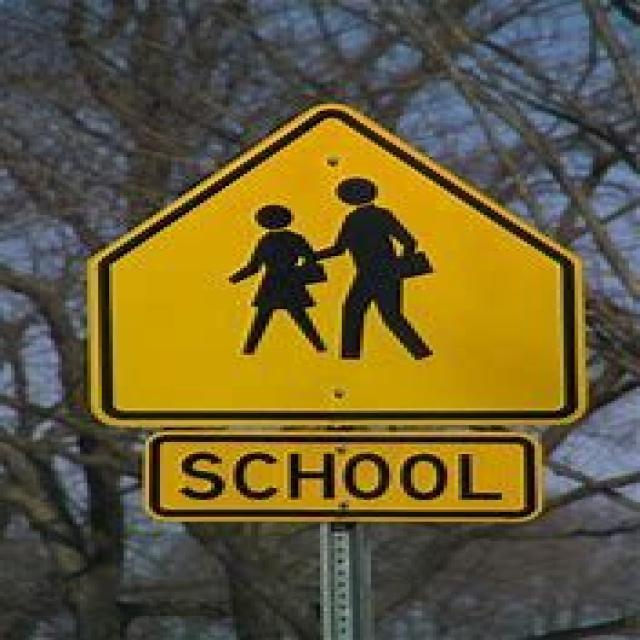school ahead: (67, 78, 610, 436)
